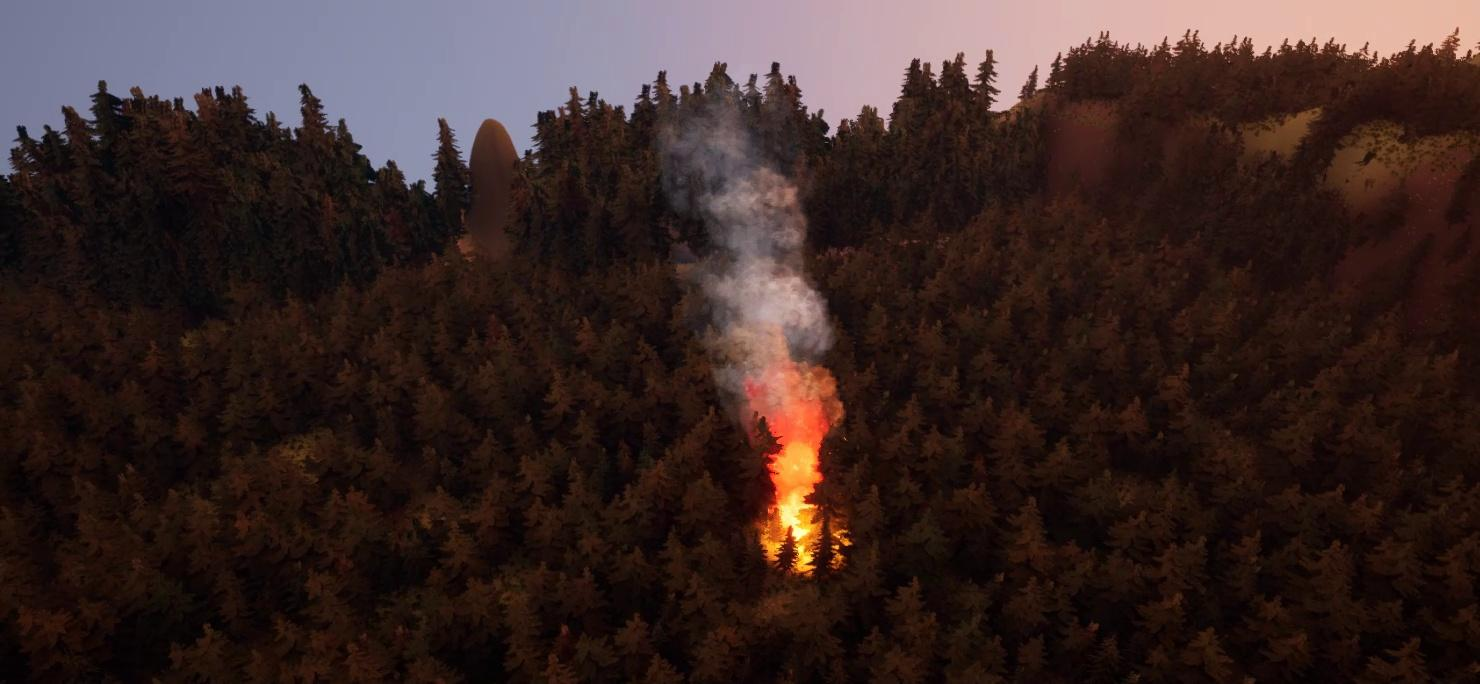fire: (744, 368, 854, 568)
smoke: (652, 81, 854, 399)
